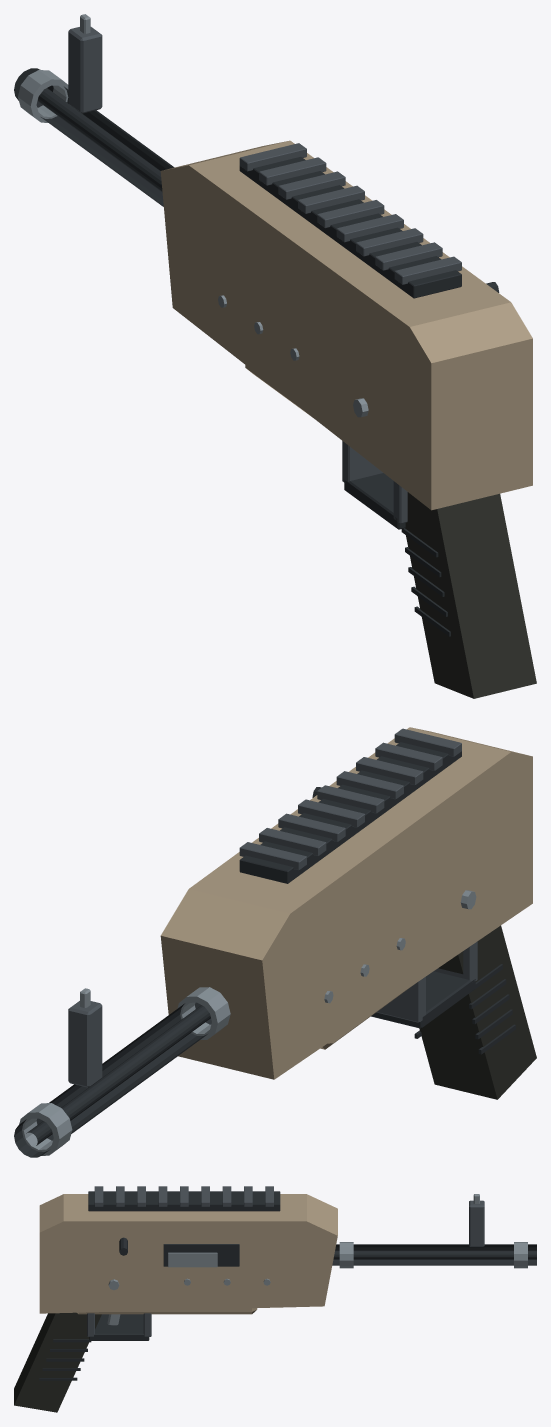
The model's file is weapon_lynx45.glb.
The picture shows the model from 3 angles, top to bottom: view 1: azimuth 30°, elevation 25°; view 2: azimuth 150°, elevation 25°; view 3: azimuth 270°, elevation 25°; orthographic projection. The views are drawn at different scales.
Parts seen in each view (by area): view 1: Geometry_weapon_lynx45; view 2: Geometry_weapon_lynx45; view 3: Geometry_weapon_lynx45.
Part boxes in pixels (box(x1,y1,x2,y2)): Geometry_weapon_lynx45: box(14, 14, 536, 698); Geometry_weapon_lynx45: box(14, 727, 536, 1157); Geometry_weapon_lynx45: box(14, 1186, 536, 1412).
Size of the model in its own units: 0.1051 by 0.262 by 0.591.
